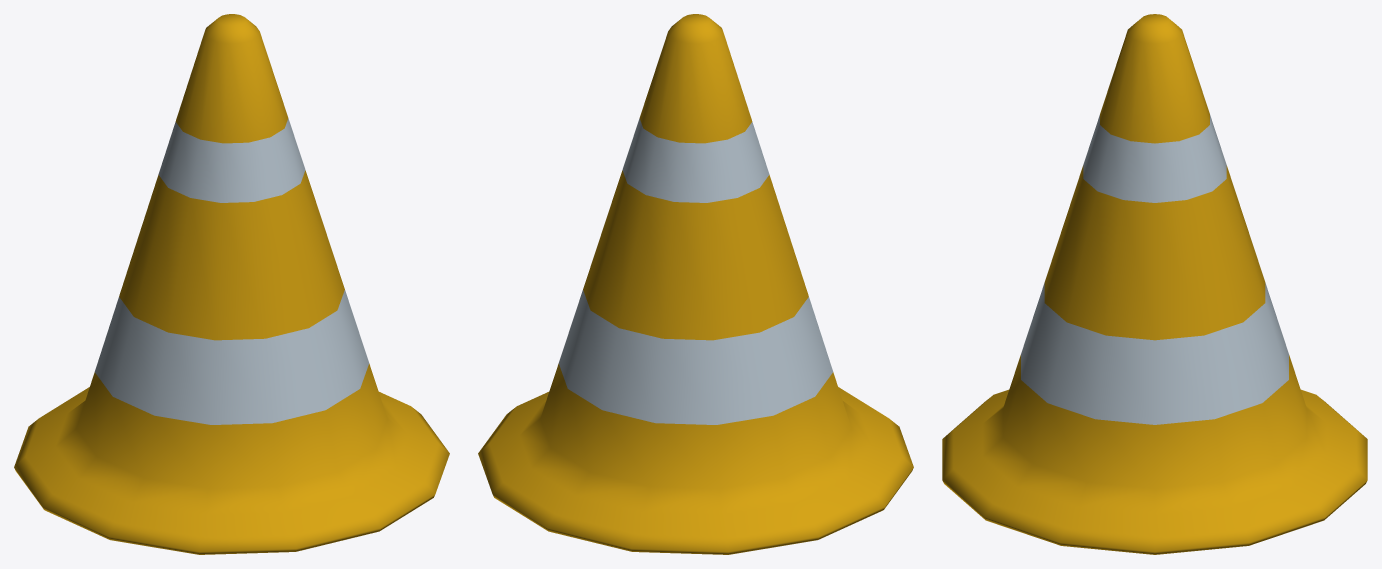
The model's file is VLC.fbx.
3 renders of one model, left to right at view 1: azimuth 30°, elevation 25°; view 2: azimuth 150°, elevation 25°; view 3: azimuth 270°, elevation 25°, orthographic.
Visible parts, largest first — view 1: cone1; view 2: cone1; view 3: cone1.
Part boxes in pixels (x1,y1,x2,y2): cone1: (14,14,449,554); cone1: (478,14,913,554); cone1: (942,14,1367,554).
Size of the model in its own units: 83.41 by 93.53 by 81.32.
